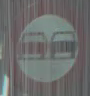No overtake: (7, 6, 86, 88)
